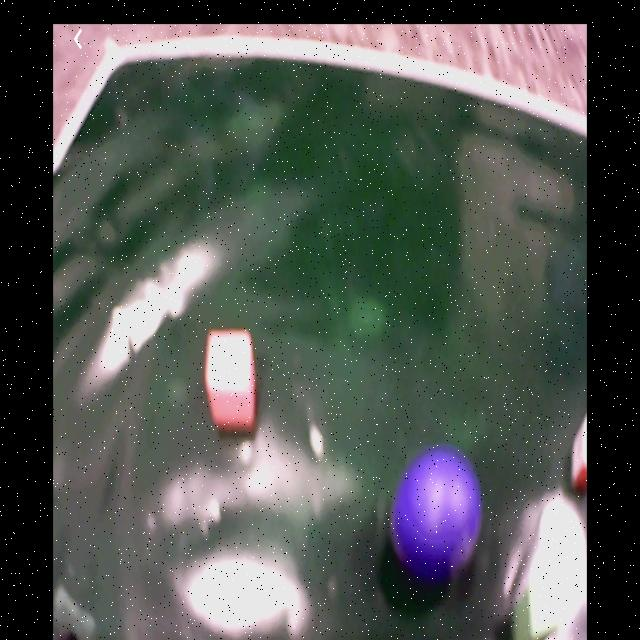ball: (394, 448, 480, 578)
